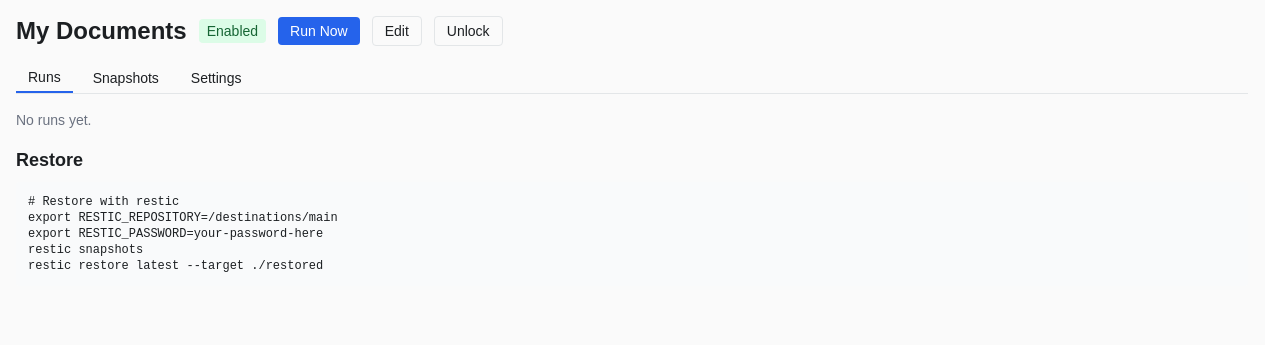
it: JobDetail › settings tab content › shows source label in settings
Click the tab "Settings". click: (216, 78)
box: top-left (179, 63), bottom-right (254, 93)
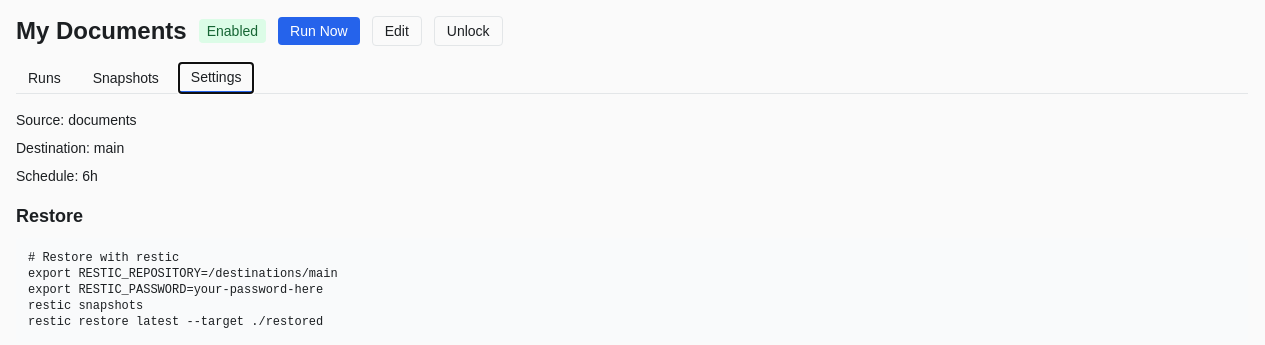
Result: the text "documents" is shown at top-left (68, 112), bottom-right (137, 128)
